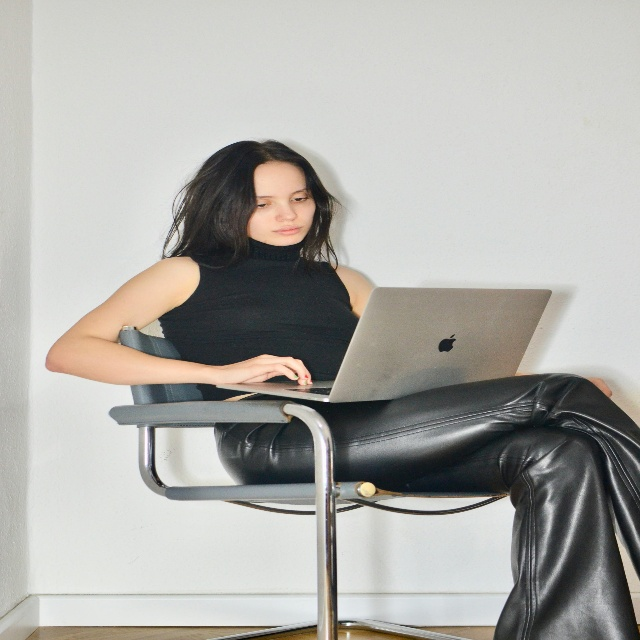Sin_guantes: (218, 354, 313, 386)
